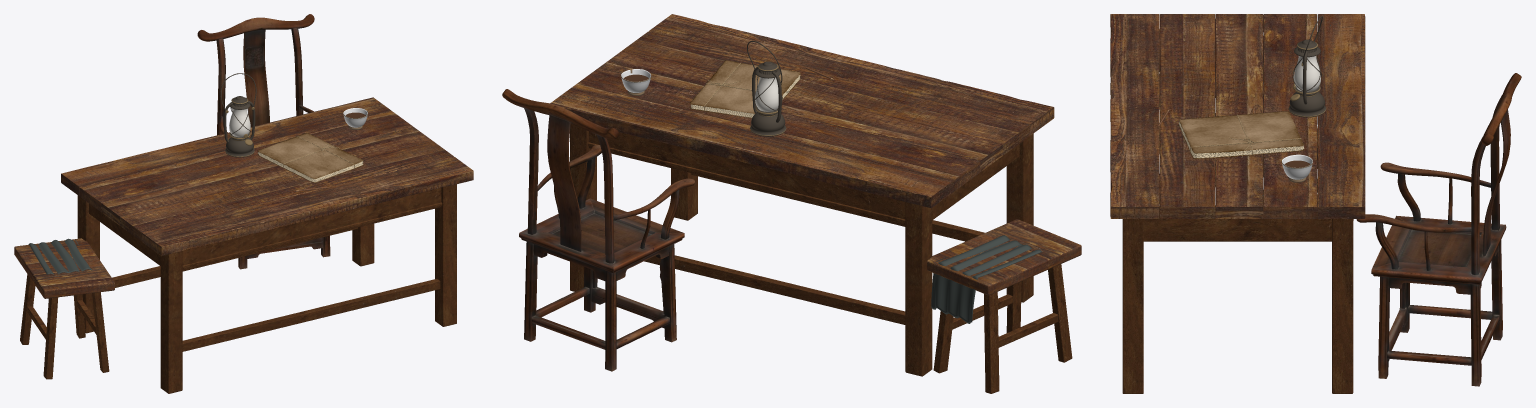
Rendered from furniture.glb.
The picture shows the model from 3 angles, left to right: view 1: azimuth 30°, elevation 25°; view 2: azimuth 150°, elevation 25°; view 3: azimuth 270°, elevation 25°; orthographic projection. The views are drawn at different scales.
Visible parts, largest first — view 1: 磨旧桌板 01, 磨旧桌板 02, 磨旧桌板 04, 磨旧桌板 05, 木靠椅 · 椅身, 磨旧桌板 03, 长牙板, 窄凳面, 方榫桌腿, 下横枨, 方榫桌腿.002, 牛皮纸封卷 · 封面 (+11 smaller); view 2: 木靠椅 · 椅身, 磨旧桌板 05, 磨旧桌板 01, 磨旧桌板 02, 磨旧桌板 04, 磨旧桌板 03, 长牙板.001, 窄凳面, 方榫桌腿.001, 下横枨.001, 搭在凳边的蓝灰布, 牛皮纸封卷 · 封面 (+14 smaller); view 3: 木靠椅 · 椅身, 磨旧桌板 02, 磨旧桌板 01, 磨旧桌板 05, 磨旧桌板 03, 磨旧桌板 04, 短牙板.001, 牛皮纸封卷 · 封面, 方榫桌腿.002, 方榫桌腿.003, 铆压油箱与底座, lamp-glass (+1 smaller).
Boxes of the visible parts, <box> form: 磨旧桌板 01: <box>142,157,473,256</box>; 磨旧桌板 02: <box>120,140,453,241</box>; 磨旧桌板 04: <box>80,111,413,211</box>; 磨旧桌板 05: <box>61,97,391,196</box>; 木靠椅 · 椅身: <box>197,14,330,269</box>; 磨旧桌板 03: <box>101,127,431,225</box>; 长牙板: <box>182,188,441,269</box>; 窄凳面: <box>14,238,114,298</box>; 方榫桌腿: <box>160,251,182,393</box>; 下横枨: <box>182,279,440,351</box>; 方榫桌腿.002: <box>435,184,456,326</box>; 牛皮纸封卷 · 封面: <box>257,133,363,178</box>; 木靠椅 · 椅身: <box>502,89,694,371</box>; 磨旧桌板 05: <box>550,87,953,208</box>; 磨旧桌板 01: <box>649,14,1054,135</box>; 磨旧桌板 02: <box>622,31,1030,155</box>; 磨旧桌板 04: <box>573,68,980,191</box>; 磨旧桌板 03: <box>599,51,1003,171</box>; 长牙板.001: <box>589,131,905,224</box>; 窄凳面: <box>927,219,1081,295</box>; 方榫桌腿.001: <box>905,202,932,376</box>; 下横枨.001: <box>644,255,905,324</box>; 搭在凳边的蓝灰布: <box>931,235,1042,323</box>; 牛皮纸封卷 · 封面: <box>690,60,800,113</box>; 木靠椅 · 椅身: <box>1356,73,1521,386</box>; 磨旧桌板 02: <box>1159,14,1215,218</box>; 磨旧桌板 01: <box>1110,14,1159,218</box>; 磨旧桌板 05: <box>1317,14,1365,218</box>; 磨旧桌板 03: <box>1215,14,1263,218</box>; 磨旧桌板 04: <box>1263,14,1317,218</box>; 短牙板.001: <box>1143,205,1331,241</box>; 牛皮纸封卷 · 封面: <box>1179,111,1303,153</box>; 方榫桌腿.002: <box>1122,219,1143,393</box>; 方榫桌腿.003: <box>1332,219,1353,393</box>; 铆压油箱与底座: <box>1288,92,1326,117</box>; lamp-glass: <box>1293,56,1320,91</box>.
Size of the model in its own units: 2.08 by 1.19 by 1.53.
26 materials, 4 textured.
